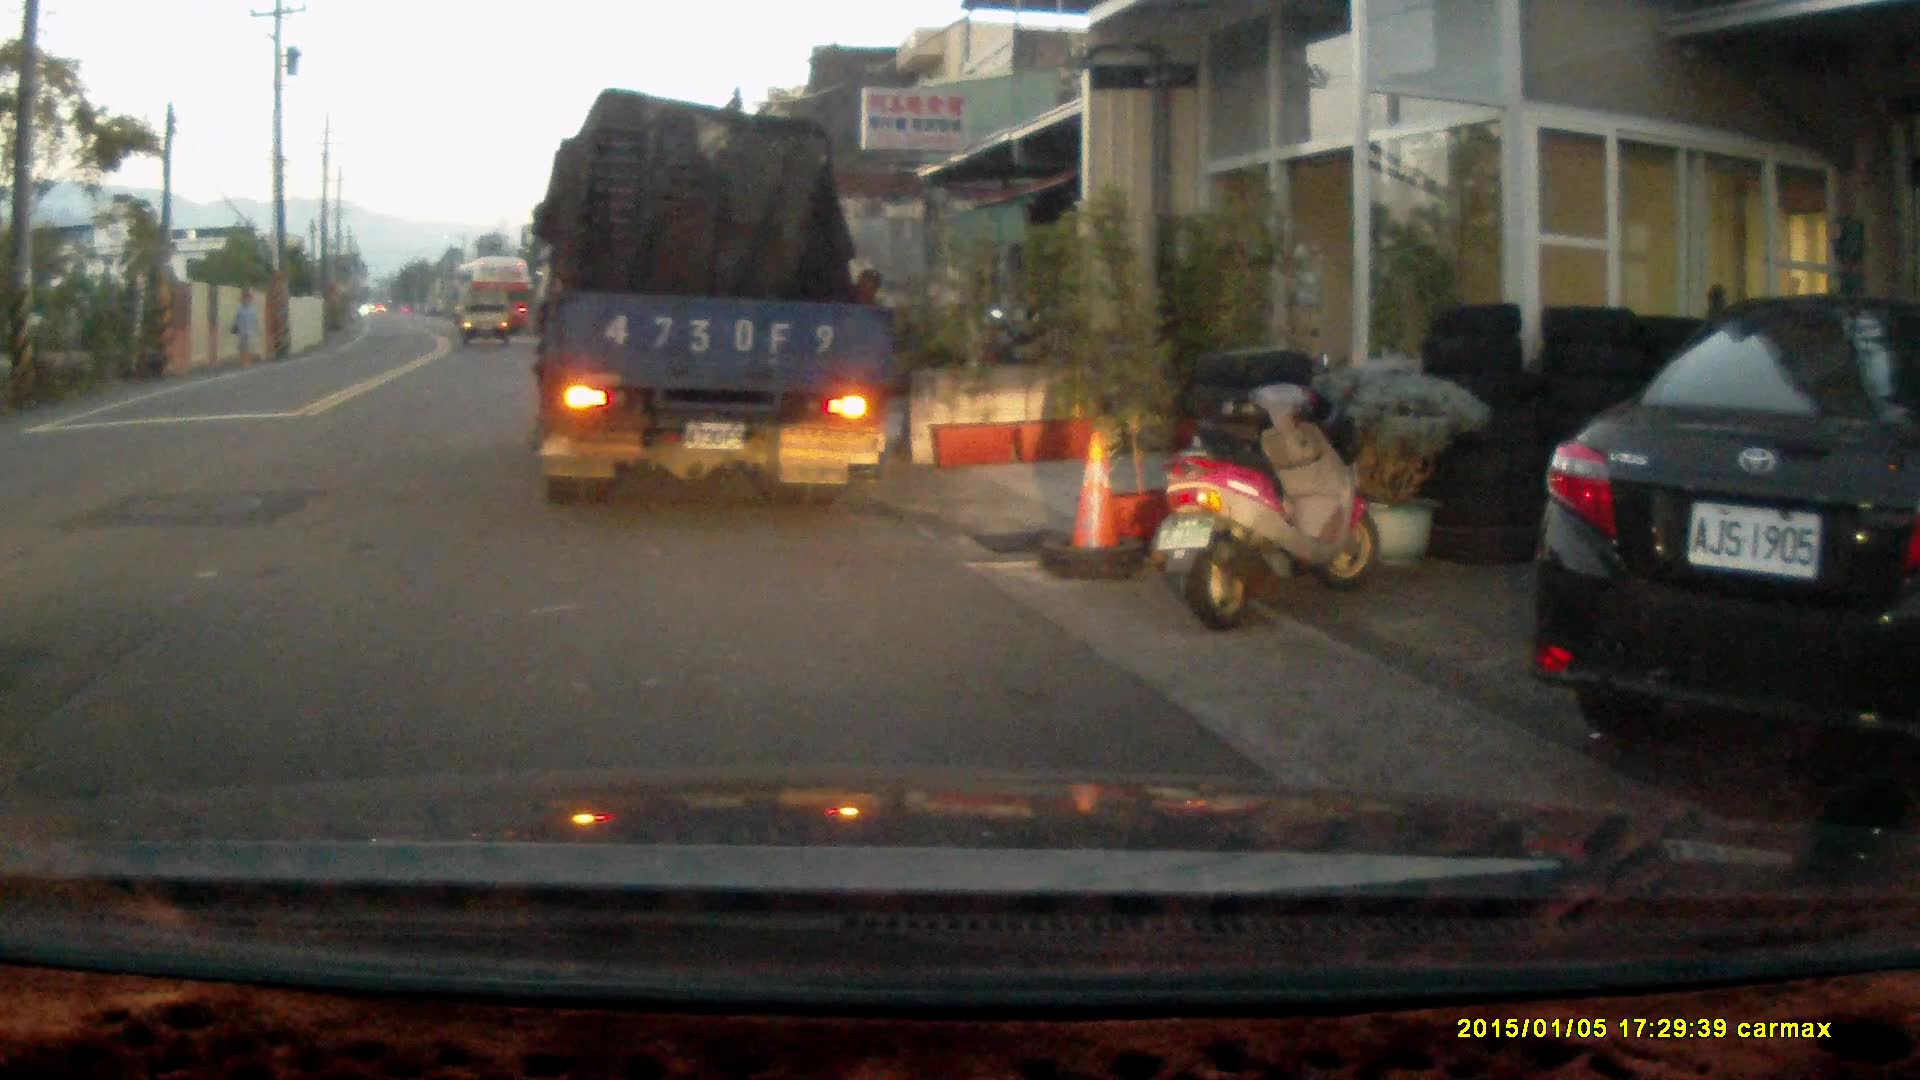pedestrian: (226, 290, 256, 364)
vehicle: (1545, 289, 1920, 770), (520, 99, 884, 504), (455, 254, 536, 338), (459, 290, 513, 351)
